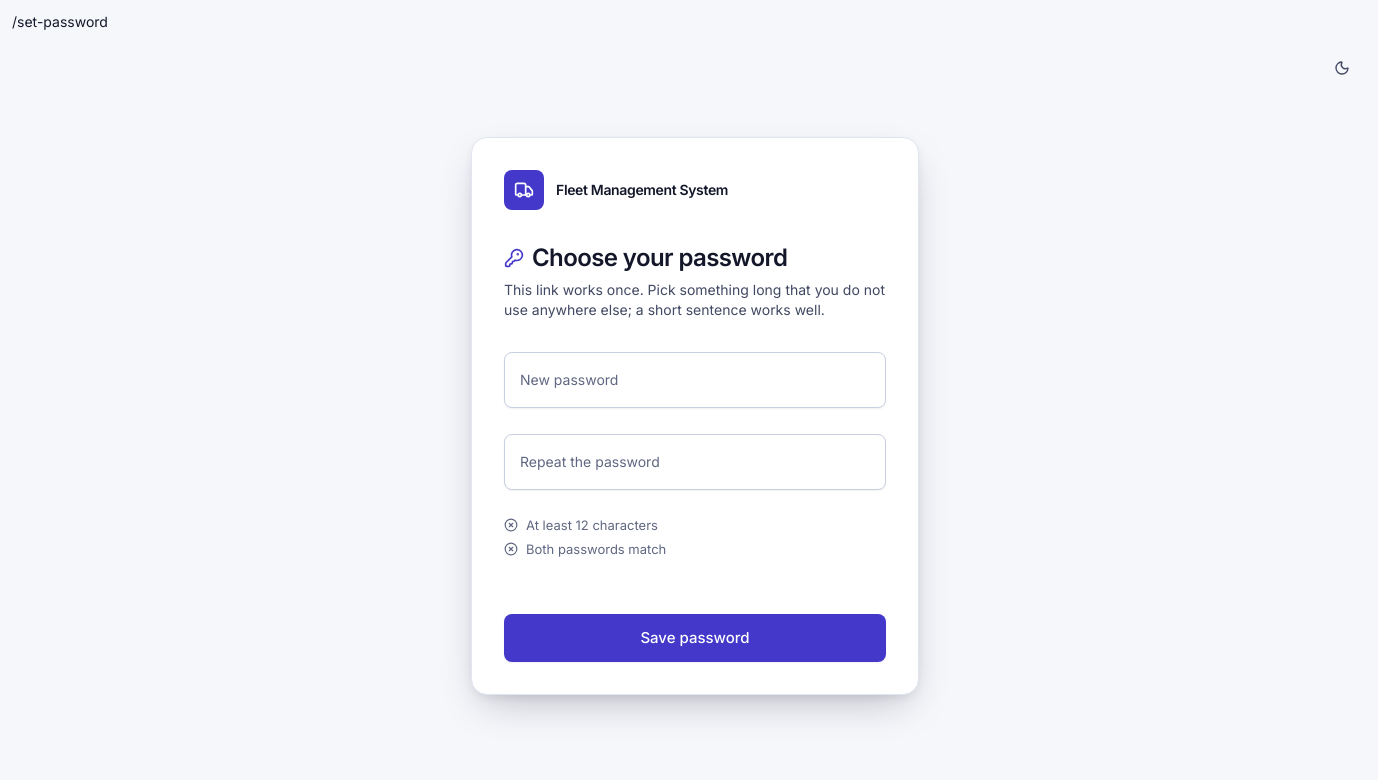
Test case: Set password (one-time link) › says so when the link is used or expired, and shows password rules from the server on the field
Type "hanna-at-work-2026" into the password field labelled "New password". click: (695, 380)
box: [504,352,886,408]
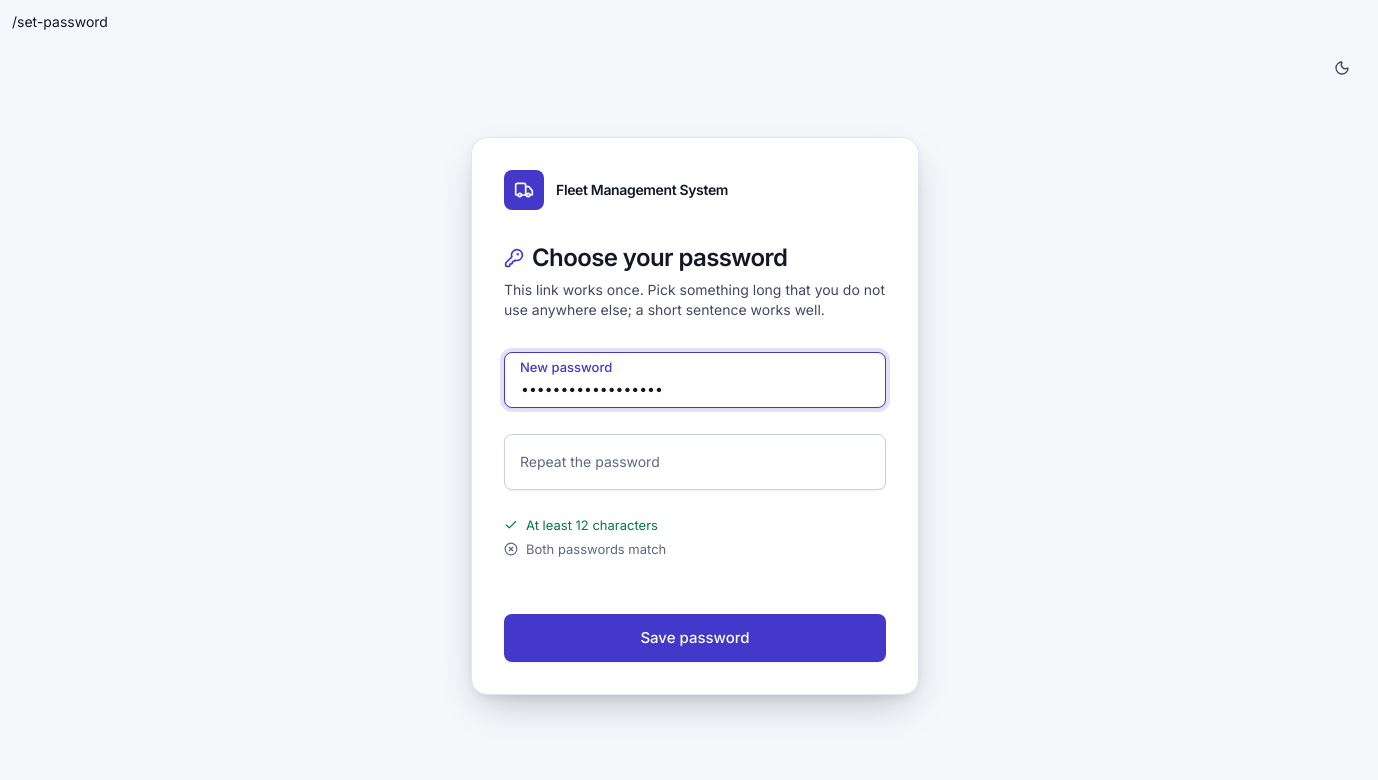
Type "hanna-at-work-2026" into the password field labelled "Repeat the password". click: (695, 462)
box: [504,434,886,490]
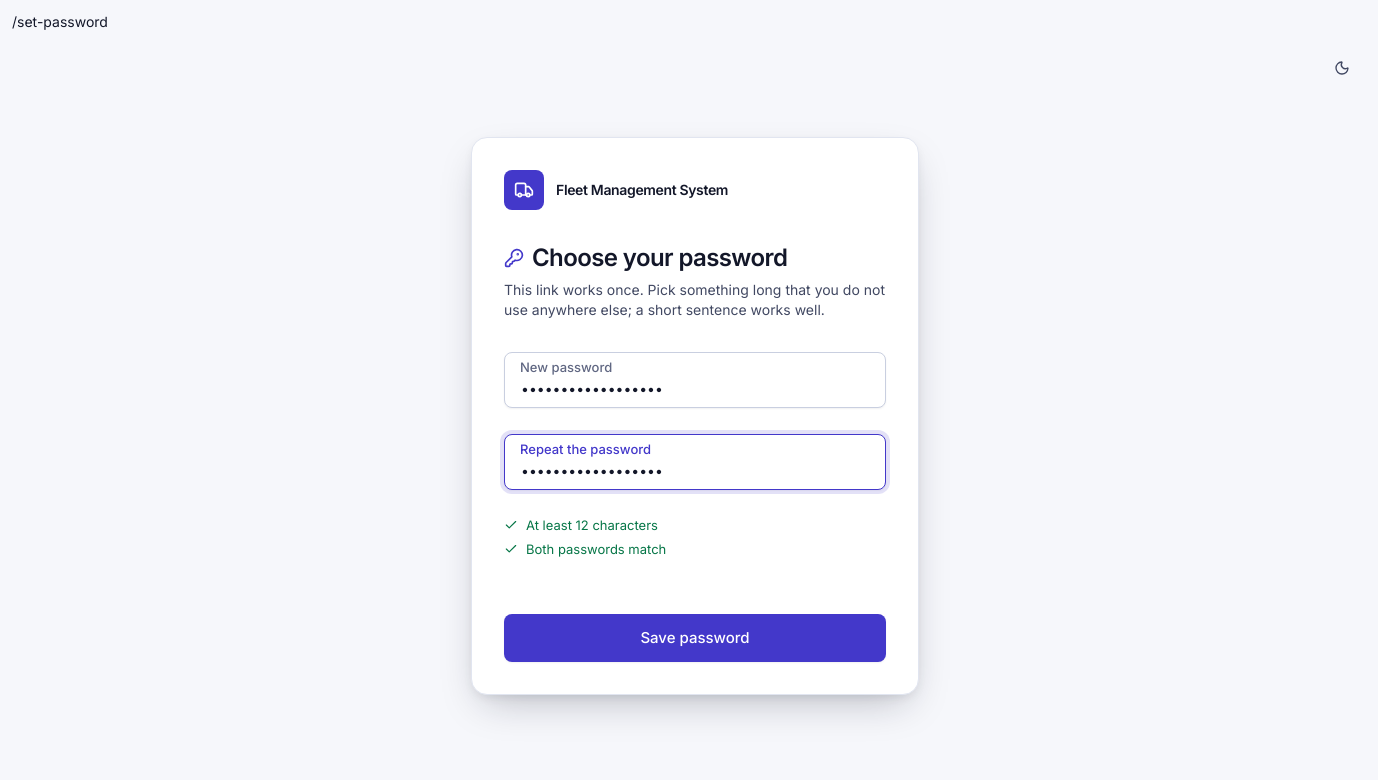
Click the button "Save password". click: (695, 638)
box: [504,614,886,662]
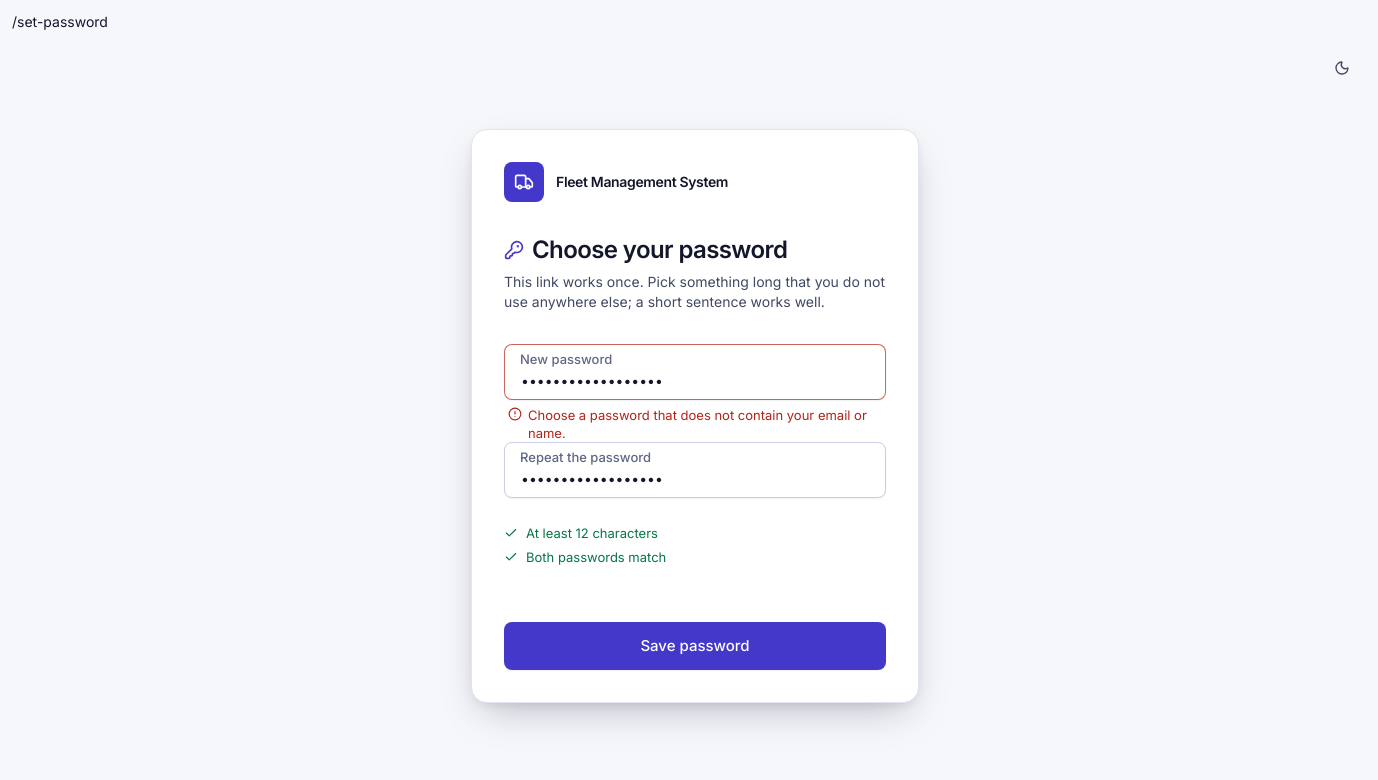
Now the text "Choose a password that does not contain your email or name." is shown, box [504,406,886,442]
Click the button "Save password". click: (695, 646)
box: [504,622,886,670]
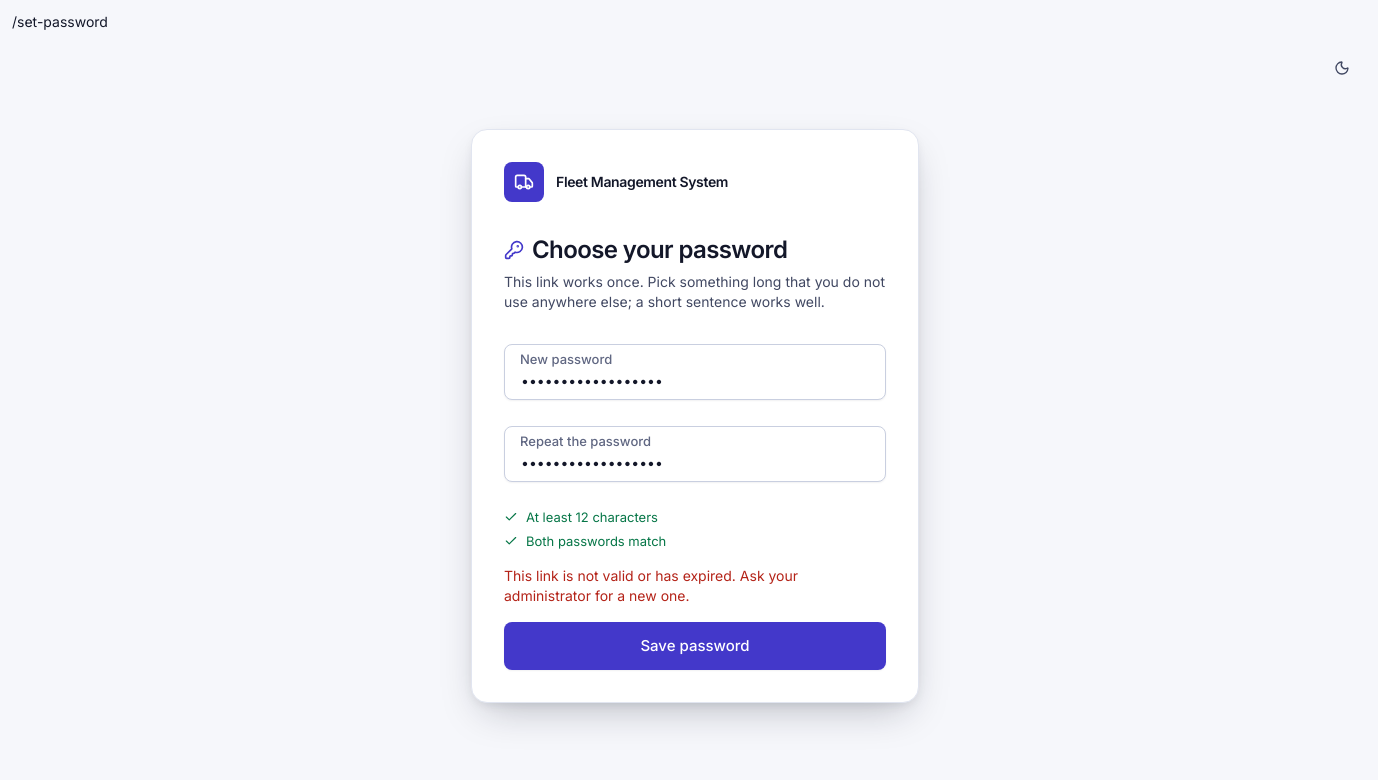
Now the message shows "This link is not valid or has expired", box [504,567,798,604]
